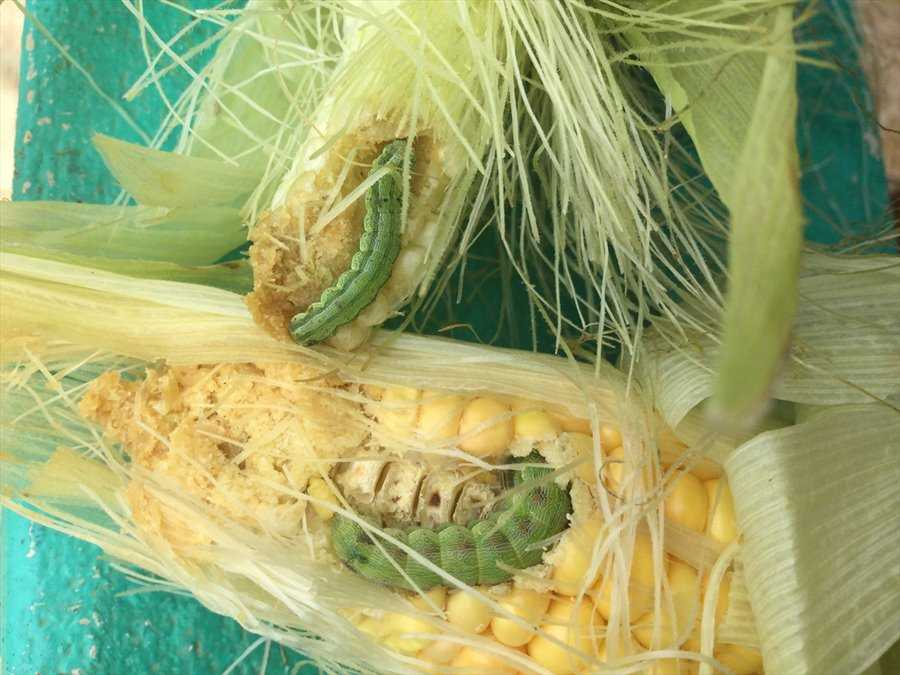Armyworm: (322, 424, 574, 600), (276, 132, 441, 363)
